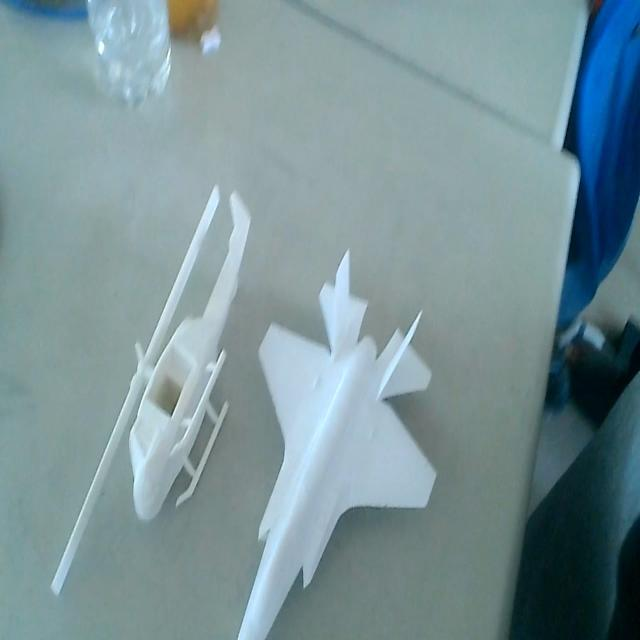Helicopter: (42, 183, 253, 592)
Jet: (235, 248, 440, 640)
